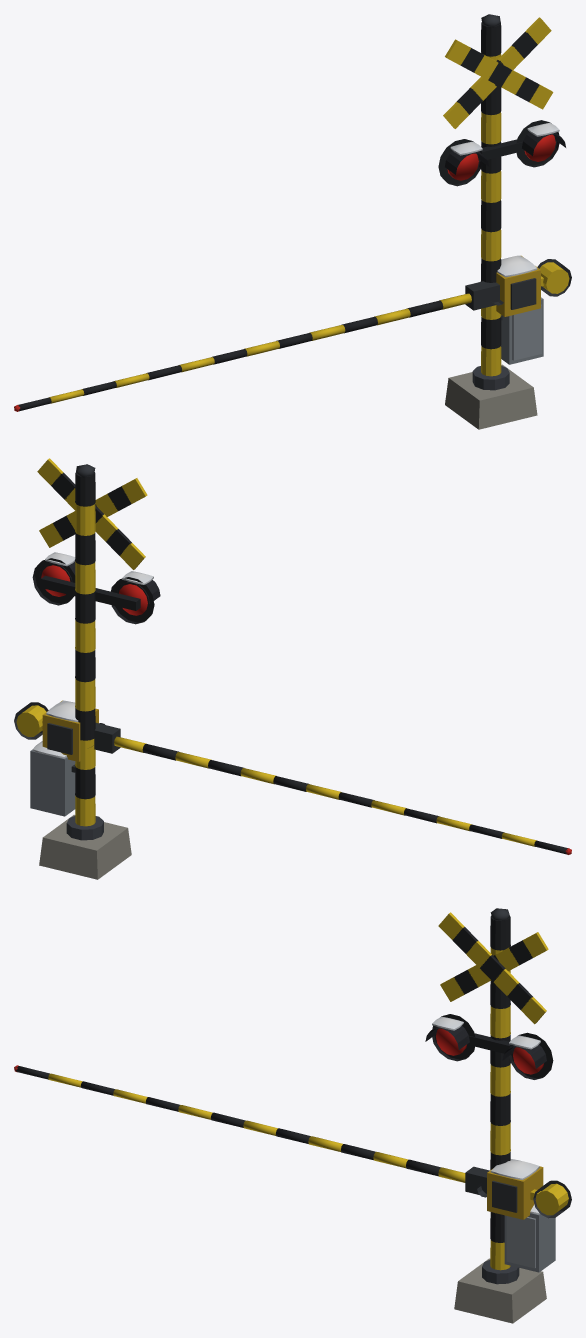
Rendered from crossing.glb.
3 views of the same model, one above another, from view 1: azimuth 30°, elevation 25°; view 2: azimuth 150°, elevation 25°; view 3: azimuth 330°, elevation 25° (orthographic).
Parts seen in each view (by area): view 1: crossing, arm; view 2: crossing, arm; view 3: crossing, arm.
Part boxes in pixels (<box>): crossing: <box>438,14,565,429</box>; arm: <box>14,259,571,411</box>; crossing: <box>30,458,160,879</box>; arm: <box>14,702,571,854</box>; crossing: <box>425,908,555,1323</box>; arm: <box>14,1065,571,1218</box>.
Size of the model in its own units: 5.46 by 3.73 by 0.63.
